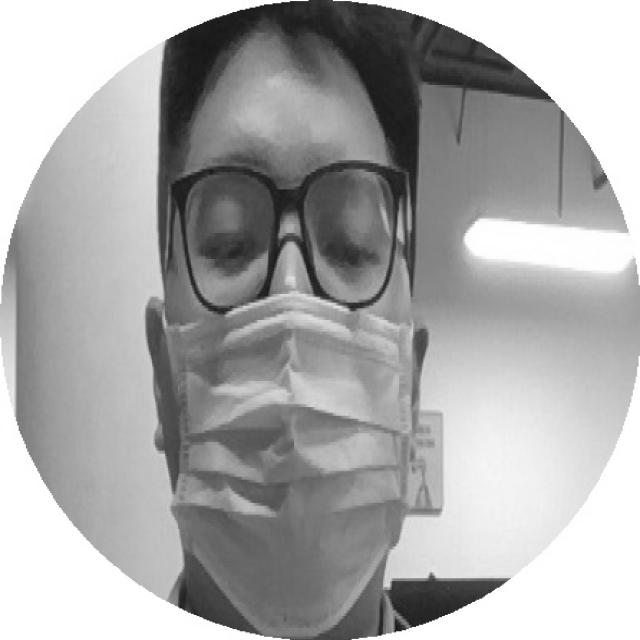fake: (158, 293, 429, 640)
real: (169, 168, 417, 290)
